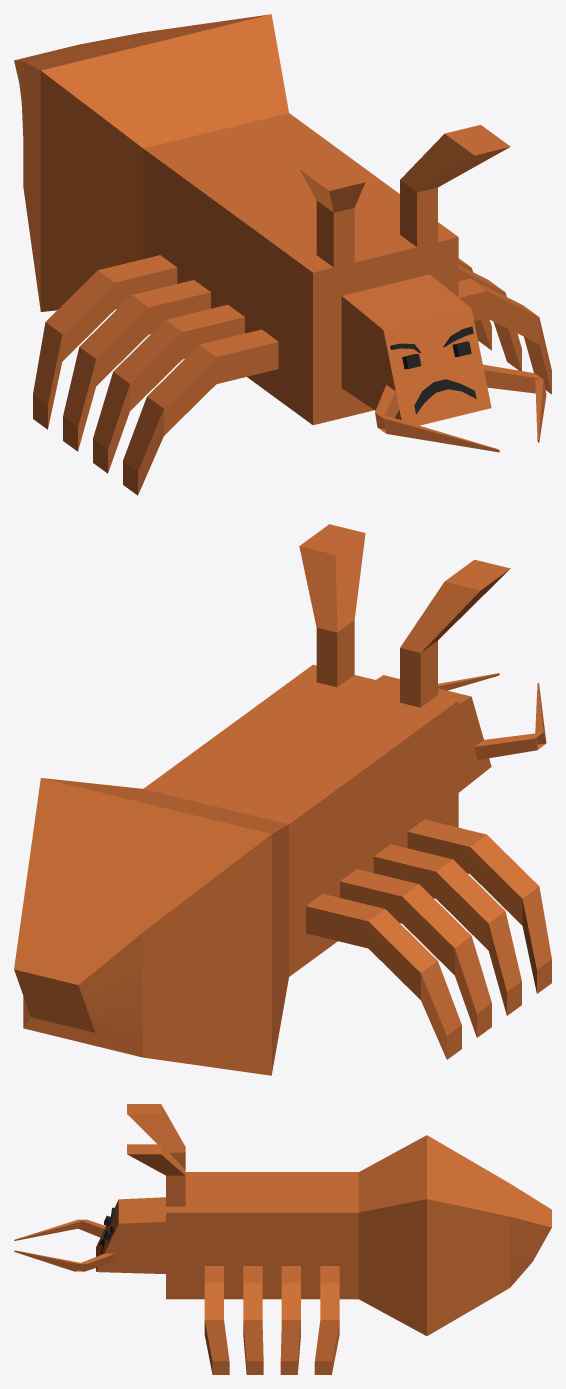
The model's file is Model_Attacker.fbx.
3 renders of one model, top to bottom at view 1: azimuth 30°, elevation 25°; view 2: azimuth 150°, elevation 25°; view 3: azimuth 270°, elevation 25°, orthographic. The views are drawn at different scales.
Visible parts, largest first — view 1: Cube; view 2: Cube; view 3: Cube.
Part boxes in pixels (box(x1,y1,x2,y2)): Cube: box(14, 14, 551, 495); Cube: box(14, 524, 551, 1075); Cube: box(14, 1104, 551, 1374).
Size of the model in its own units: 351 by 268 by 695.
